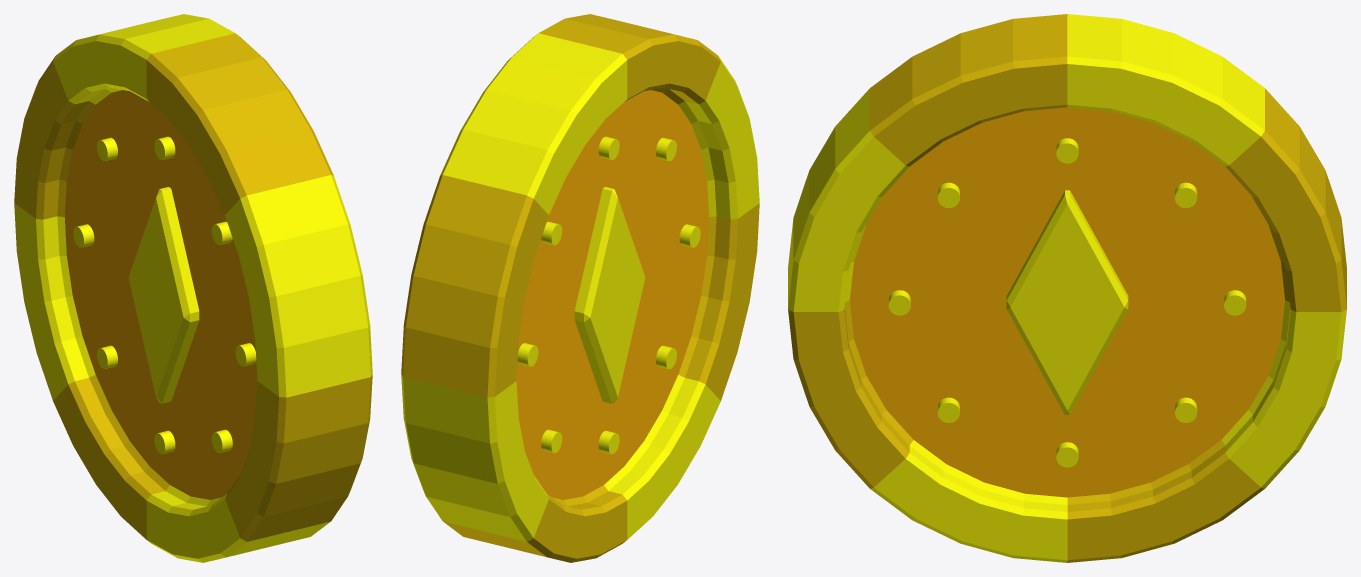
File: coin.fbx
3 views of the same model, side by side, from view 1: azimuth 30°, elevation 25°; view 2: azimuth 150°, elevation 25°; view 3: azimuth 270°, elevation 25° (orthographic). The views are drawn at different scales.
Visible parts, largest first — view 1: Cube; view 2: Cube; view 3: Cube.
Part boxes in pixels (<box>): Cube: <box>14,14,372,562</box>; Cube: <box>401,14,759,562</box>; Cube: <box>788,14,1346,562</box>.
Size of the model in its own units: 200 by 1000 by 1000.
